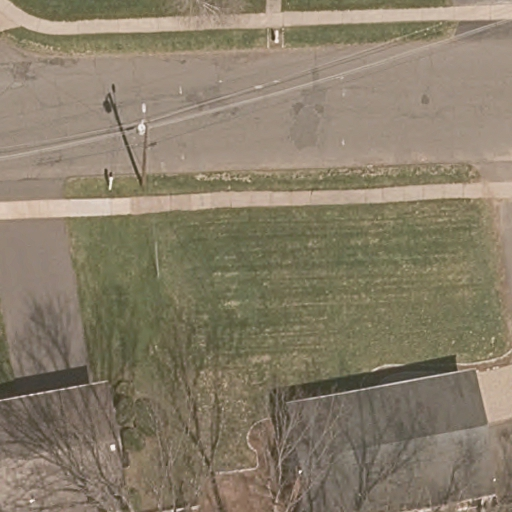DT: (137, 103, 158, 189)
